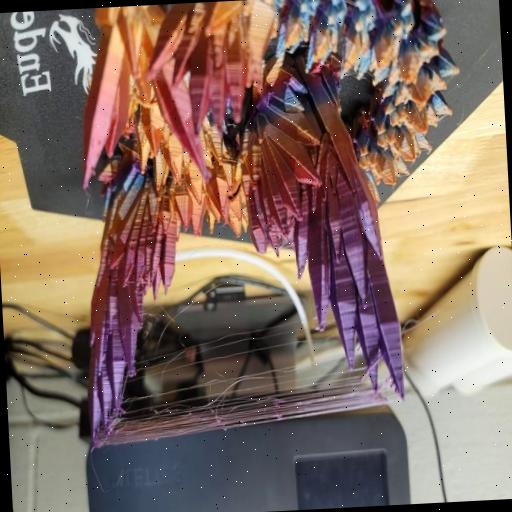stringing: (93, 370, 404, 445)
